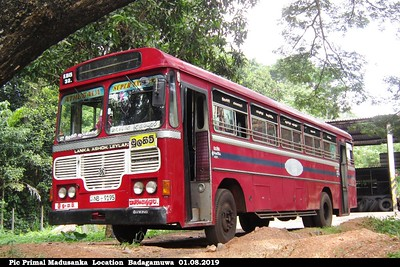bus: (48, 46, 357, 244)
